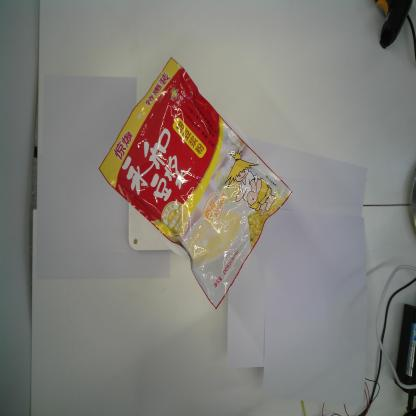Instant Drink: (98, 58, 292, 310)
